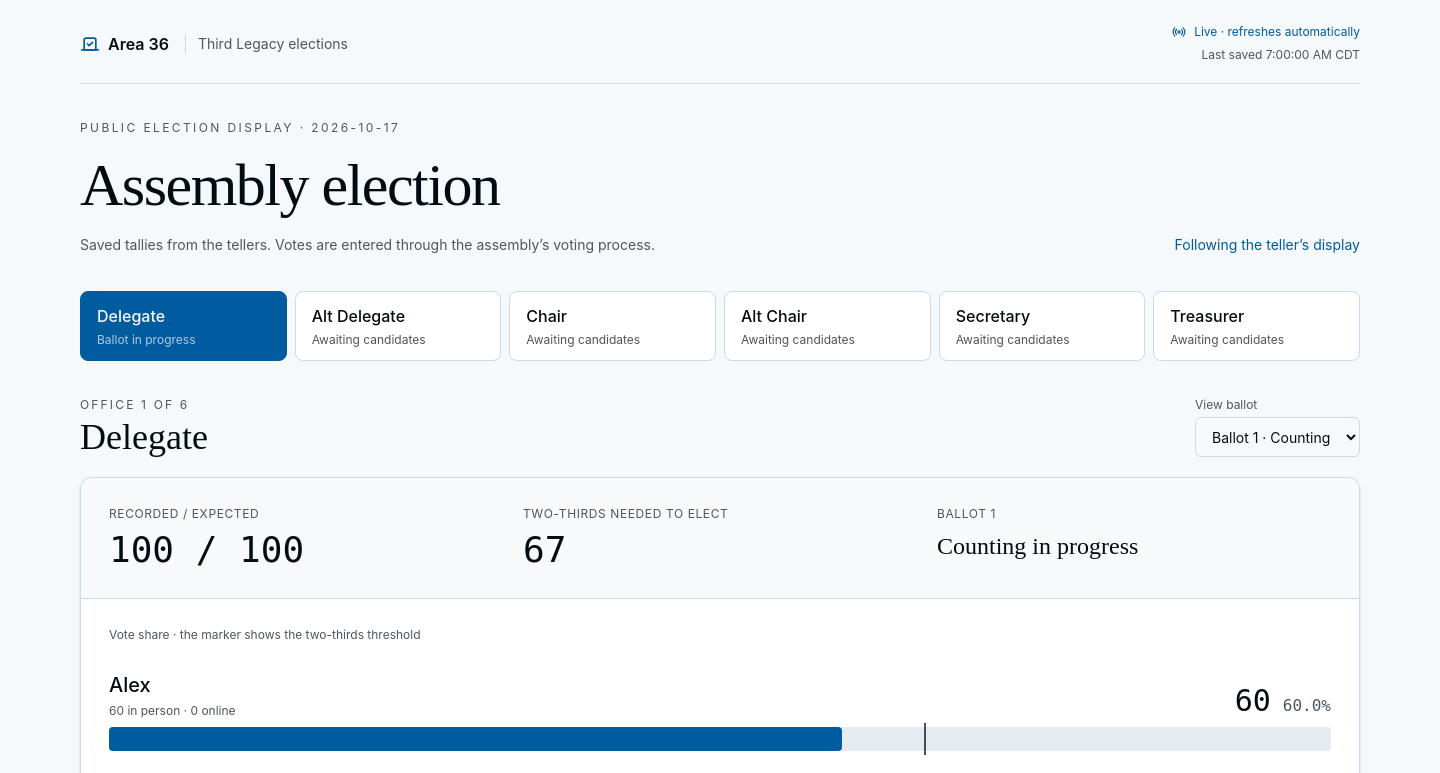
Test: public election visual › shows bars, X, and the threshold without vote or correction controls
Expected: the text "67" is shown, [523,529,566,570]
Click the button "Alt Delegate Awaiting candidates". click: (398, 326)
box: [295,291,501,361]
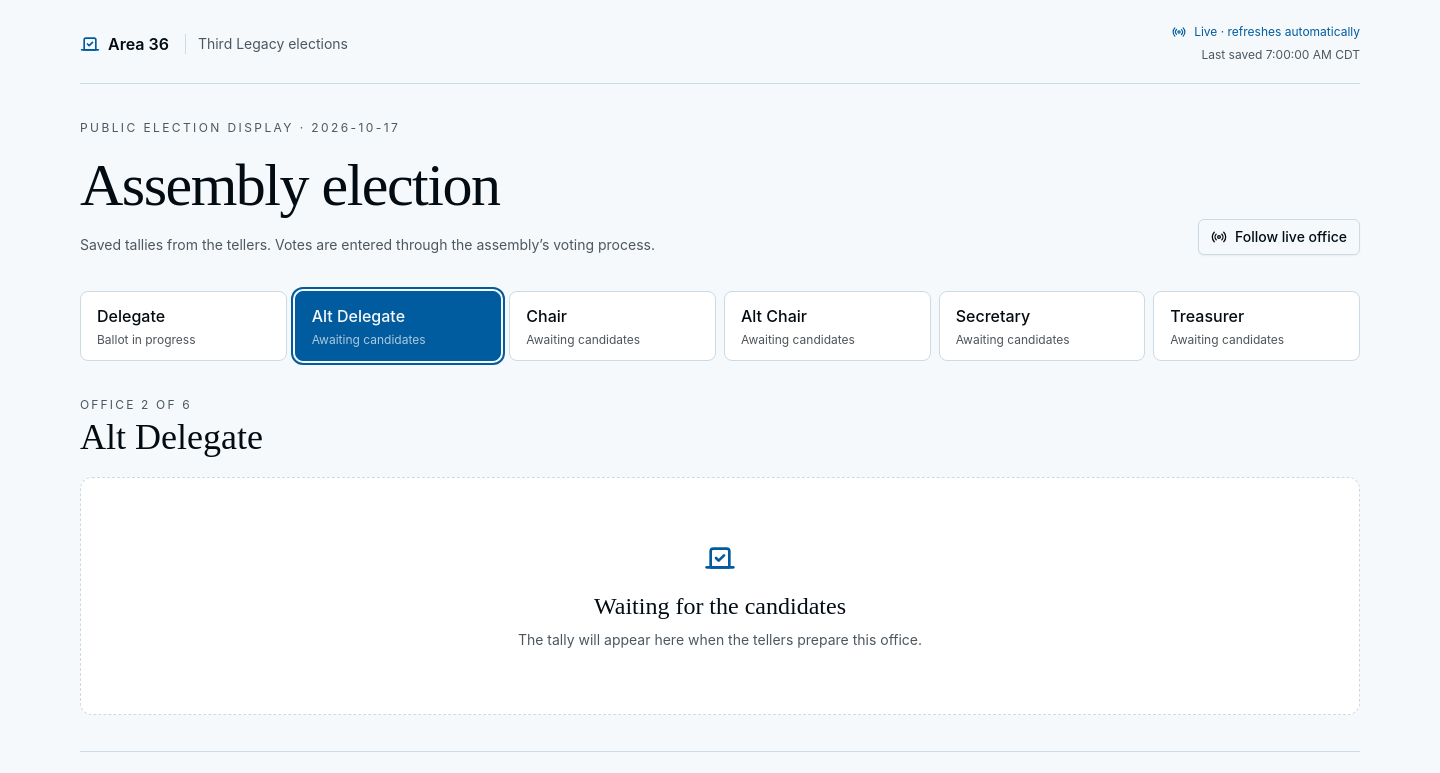
Expected: the heading "Waiting for the candidates" is shown, [594,593,846,619]
Click the button "Follow live office". click: (1279, 237)
box: [1198,219,1360,255]
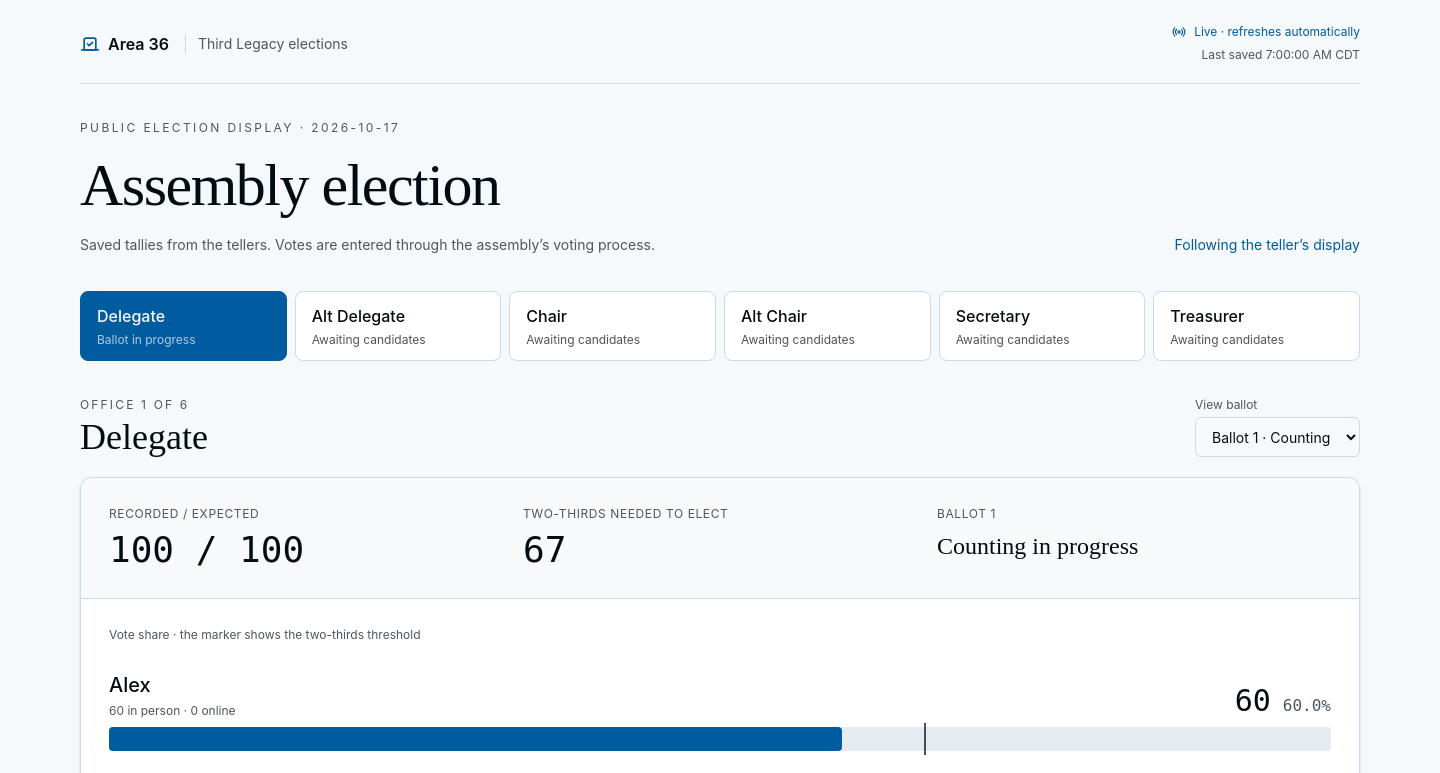
Expected: the element named "Alex vote share" is shown, [109,727,1331,751]
